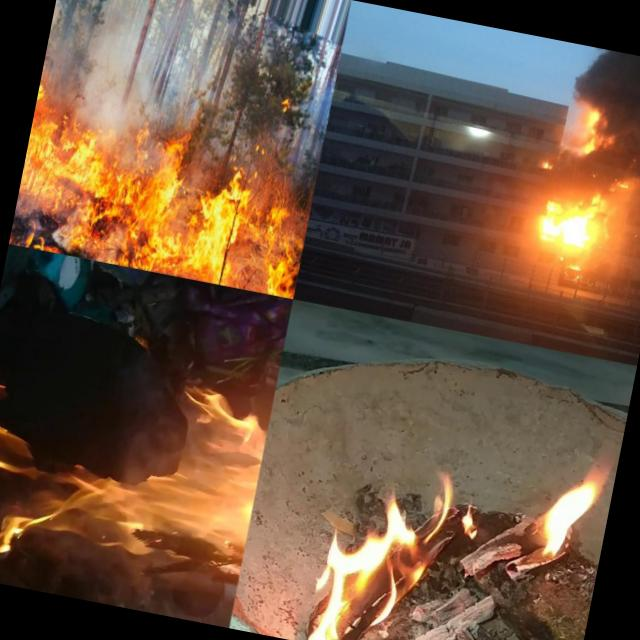fire: (9, 44, 332, 300), (301, 413, 617, 640), (527, 176, 627, 266), (581, 106, 615, 156), (537, 152, 561, 174)
smoke: (564, 43, 640, 119), (558, 149, 640, 198), (607, 106, 640, 170)
